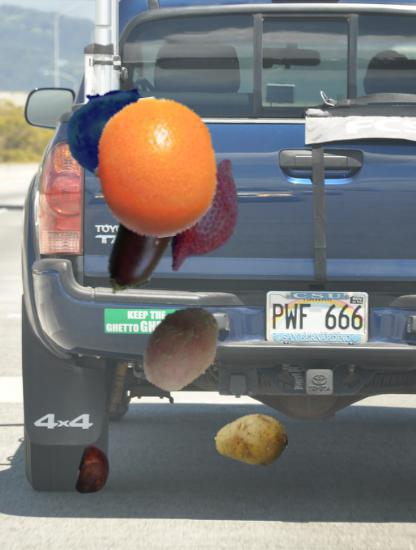Chestnut: (68, 445, 121, 498)
Eggplant: (73, 159, 218, 304)
Grapefruit: (84, 97, 226, 239)
Huckleberry: (65, 79, 173, 187)
Potato: (135, 303, 231, 399), (215, 402, 289, 476)
Salak: (141, 155, 267, 281)
